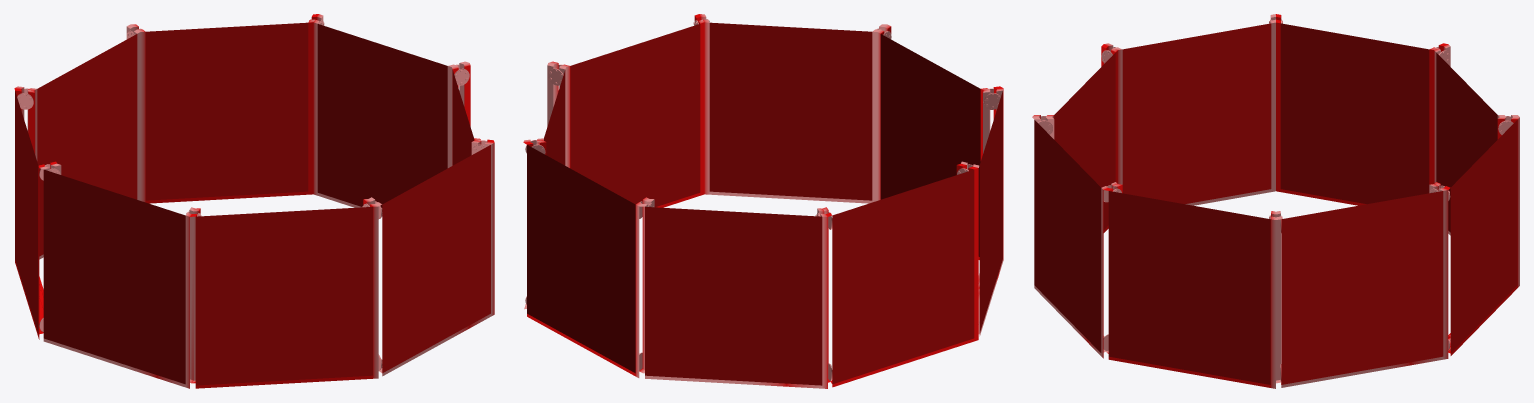
Rendered from MoonBaboon_GlassWall_01.gltf.
The picture shows the model from 3 angles, left to right: view 1: azimuth 30°, elevation 25°; view 2: azimuth 150°, elevation 25°; view 3: azimuth 270°, elevation 25°; orthographic projection.
Visible parts, largest first — view 1: MoonBaboon_GlassWall_01; view 2: MoonBaboon_GlassWall_01; view 3: MoonBaboon_GlassWall_01.
Part boxes in pixels (x1,y1,x2,y2): MoonBaboon_GlassWall_01: [14, 14, 494, 388]; MoonBaboon_GlassWall_01: [523, 14, 1003, 388]; MoonBaboon_GlassWall_01: [1032, 14, 1519, 388].
Size of the model in its own units: 131 by 49.95 by 131.
